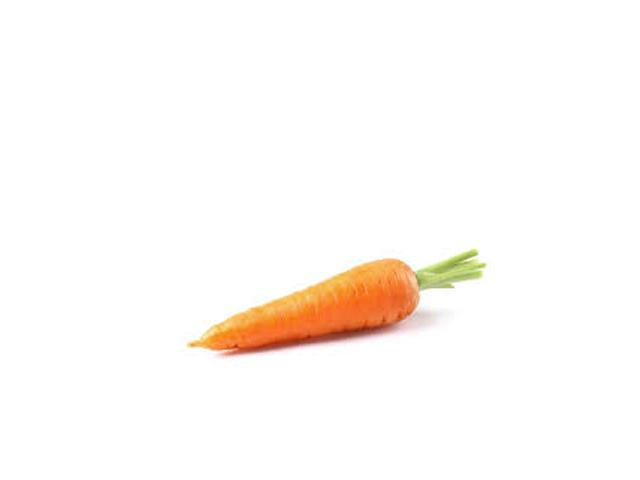carrot: (177, 231, 443, 375)
